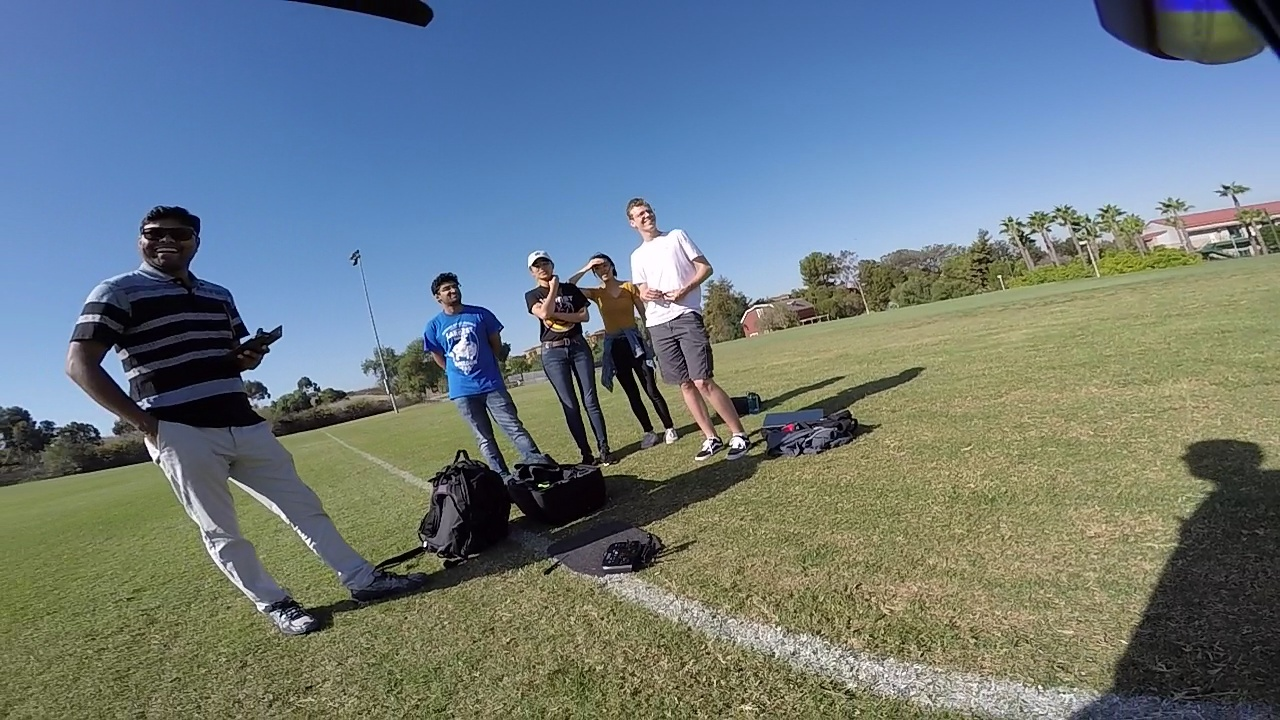person: (59, 197, 405, 644), (616, 188, 753, 458), (412, 264, 556, 483), (515, 244, 605, 464), (571, 245, 666, 445), (1098, 1, 1278, 57)
